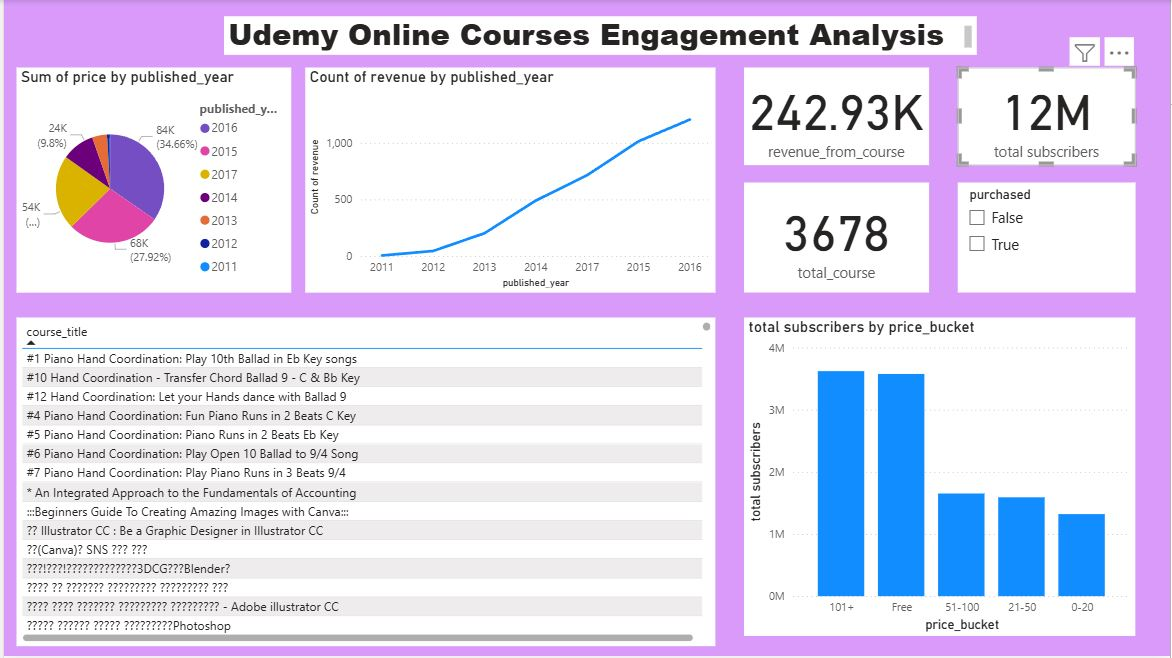

What the dashboard file says about the page in this screenshot:
{"tool":"powerbi","page":{"name":"Page 1","canvas":[1280,720],"ordinal":0},"visuals":[{"type":"card","fields":{"Values":["udemy_online_education_courses_dataset.total subscribers"]},"box":[1047,74.1,194.9,107],"z":0},{"type":"card","fields":{"Values":["udemy_online_education_courses_dataset.revenue_from_course"]},"box":[812.4,74.1,203.1,107],"z":1000},{"type":"card","fields":{"Values":["udemy_online_education_courses_dataset.total_course"]},"box":[812.4,200.3,203.1,120.8],"z":2000},{"type":"pieChart","fields":{"Category":["udemy_online_education_courses_dataset.published_year"],"Y":["Sum(udemy_online_education_courses_dataset.price)"]},"box":[13.7,74.1,301.9,247],"z":3000},{"type":"textbox","box":[241.5,17.8,826.1,42.5],"z":4000},{"type":"slicer","title":"paid","fields":{"Values":["udemy_online_education_courses_dataset.is_paid"]},"box":[1047,200.3,194.9,120.8],"z":5000},{"type":"columnChart","fields":{"Category":["udemy_online_education_courses_dataset.price_bucket"],"Y":["udemy_online_education_courses_dataset.total subscribers"]},"box":[812.4,348.5,429.5,349.9],"z":6000},{"type":"lineChart","fields":{"Category":["udemy_online_education_courses_dataset.published_year"],"Y":["CountNonNull(udemy_online_education_courses_dataset.revenue)"]},"box":[330.7,74.1,450.1,247],"z":7000},{"type":"tableEx","fields":{"Values":["udemy_online_education_courses_dataset.course_title"]},"box":[13.7,348.5,767.1,360.9],"z":8000}]}

Visuals, with their boxes in screenshot pixels (x1, y1, x2, y2), scaled from the page's 1280x720 canvas onto the 1172x658 screenshot:
card - udemy_online_education_courses_dataset.total subscribers: 959 68 1137 166
card - udemy_online_education_courses_dataset.revenue_from_course: 744 68 930 166
card - udemy_online_education_courses_dataset.total_course: 744 183 930 293
pieChart - udemy_online_education_courses_dataset.published_year x Sum(udemy_online_education_courses_dataset.price): 13 68 289 293
textbox: 221 16 978 55
"paid" slicer: 959 183 1137 293
columnChart - udemy_online_education_courses_dataset.price_bucket x udemy_online_education_courses_dataset.total subscribers: 744 318 1137 638
lineChart - udemy_online_education_courses_dataset.published_year x CountNonNull(udemy_online_education_courses_dataset.revenue): 303 68 715 293
tableEx - udemy_online_education_courses_dataset.course_title: 13 318 715 648
